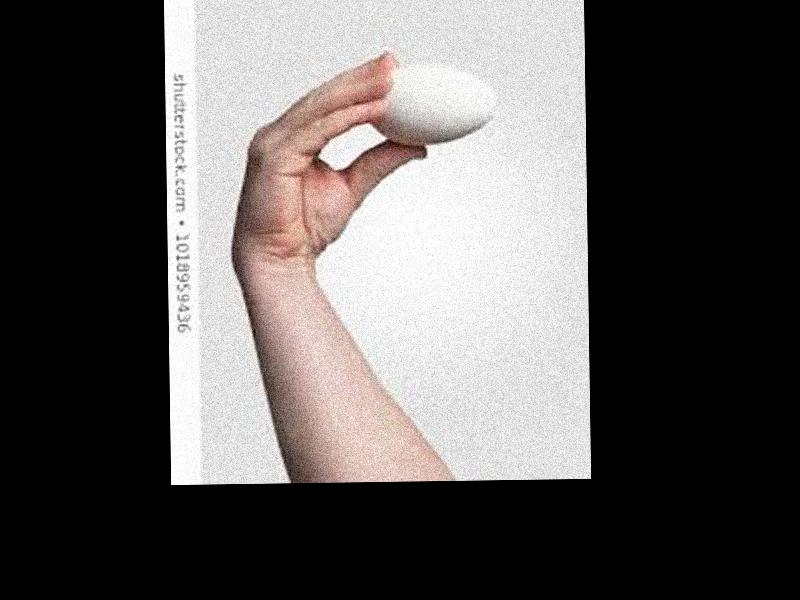Eggs: (367, 60, 499, 146)
